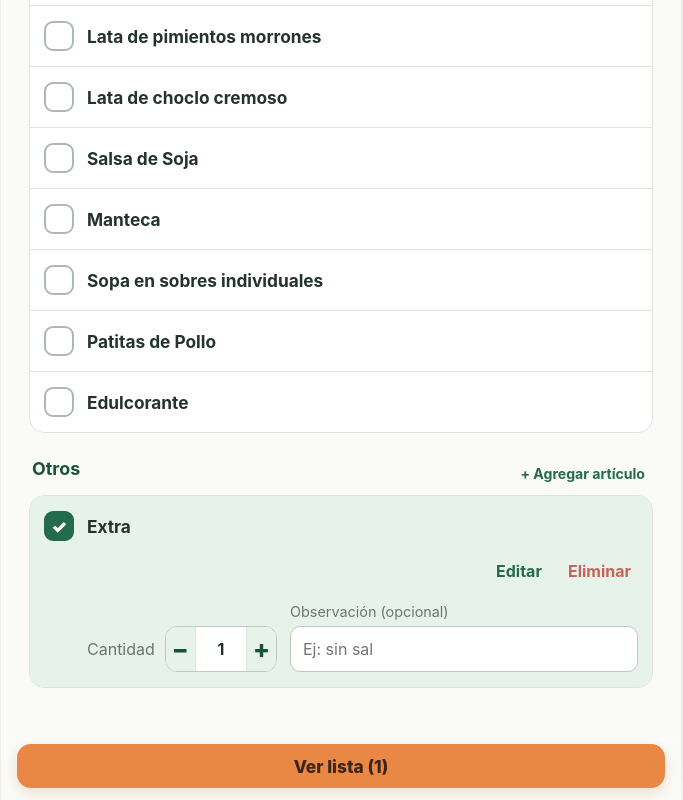
Test: Lista del Súper V3 › deletes custom items after confirmation and clears them on a new list
(page scrolled)
Click the button with aria-label "eliminar Extra" at (599, 571), box [559,549,640,593]
(page scrolled)
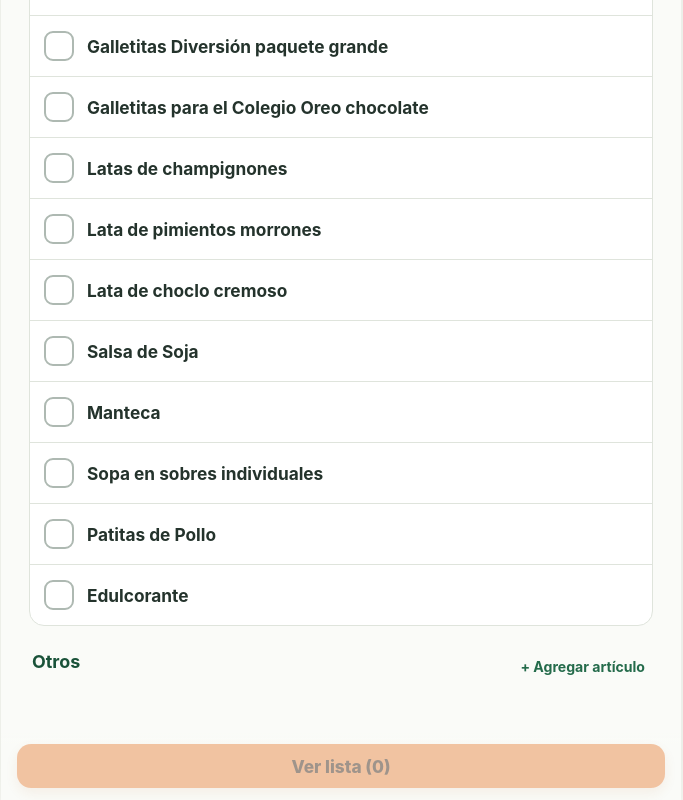
Result: the text "Extra" is gone
